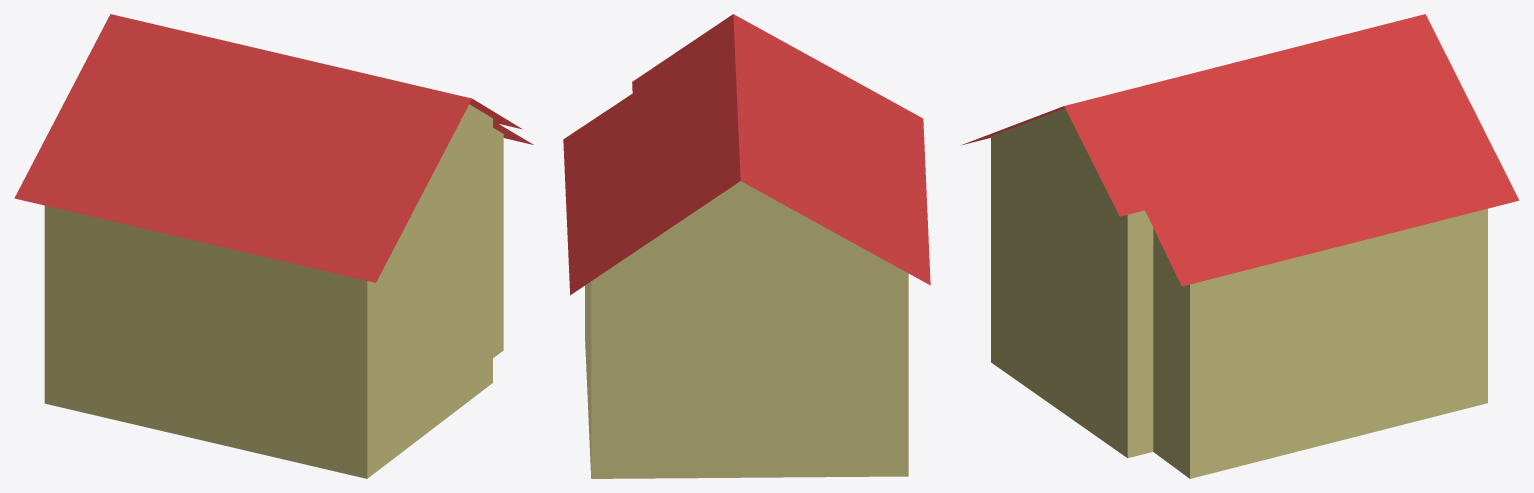
3 renders of one model, left to right at view 1: azimuth 30°, elevation 25°; view 2: azimuth 150°, elevation 25°; view 3: azimuth 270°, elevation 25°, orthographic. The views are drawn at different scales.
Size of the model in its own units: 17.46 by 18.34 by 11.8.
